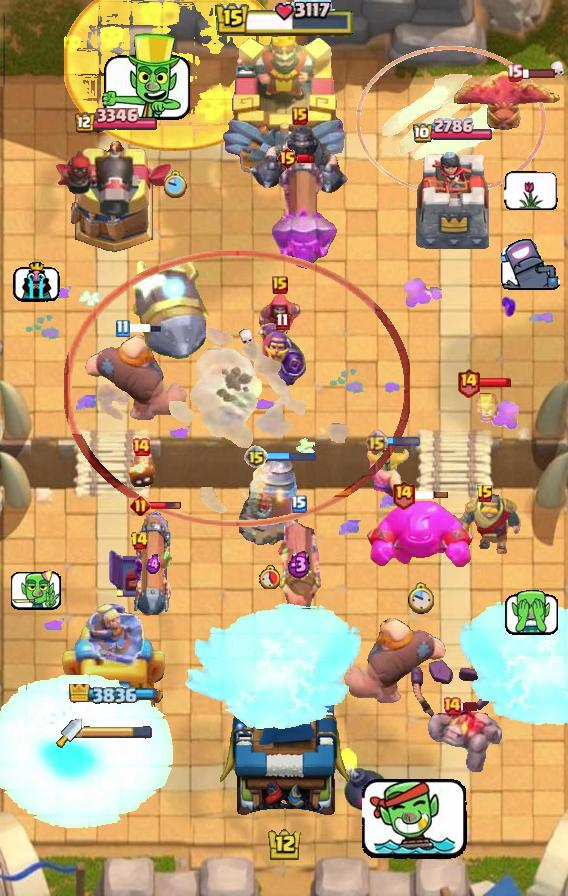baby-dragon: (337, 745, 391, 813)
balloon: (84, 332, 188, 424), (343, 615, 447, 707)
bar: (59, 595, 169, 731)
battle-healer: (275, 510, 323, 624), (129, 510, 177, 622)
bomber: (126, 451, 156, 489)
bowler: (256, 293, 304, 345)
clock: (214, 0, 354, 39)
clone: (364, 498, 476, 570)
electro-spirit: (287, 549, 311, 578), (147, 553, 162, 574)
elixir: (407, 582, 434, 615), (164, 170, 188, 198), (259, 565, 280, 589)
emote: (265, 450, 317, 463), (520, 67, 556, 79), (127, 322, 163, 334), (385, 437, 421, 448), (478, 376, 512, 387), (413, 490, 449, 500), (148, 501, 182, 511), (459, 700, 479, 711), (296, 152, 315, 163)
firecracker: (451, 494, 522, 554)
firecracker-evolution: (257, 321, 307, 386)
furnace: (270, 154, 338, 274)
goblin-giant: (367, 447, 411, 503)
ice-spirit-evolution: (473, 385, 501, 421)
ice-spirit-evolution-symbol: (107, 546, 171, 600)
ice-wizard: (356, 46, 546, 195)
king-tower: (220, 21, 348, 181), (219, 678, 349, 826)
king-tower-bar: (82, 726, 152, 740)
magic-archer: (239, 454, 299, 546)
mega-knight: (0, 672, 176, 833), (182, 600, 366, 736), (454, 596, 568, 732)
mother-witch: (454, 69, 568, 135)
phoenix-egg: (64, 0, 288, 152)
queen-tower: (410, 144, 496, 255)
royal-ghost: (64, 249, 410, 528)
royal-guardian: (248, 118, 352, 200)
selected: (71, 109, 156, 136), (412, 118, 494, 145), (68, 684, 160, 704)
skeleton: (362, 776, 470, 864), (97, 32, 195, 126), (502, 239, 563, 293), (502, 590, 560, 636), (9, 566, 62, 612), (504, 171, 558, 210), (12, 259, 59, 301)
text: (456, 366, 481, 397), (392, 478, 417, 509), (244, 445, 268, 469), (276, 146, 299, 170), (365, 431, 388, 454), (130, 495, 151, 517), (131, 437, 151, 457), (130, 531, 150, 551), (442, 696, 462, 716), (476, 484, 494, 504), (506, 63, 523, 81), (292, 107, 308, 125), (272, 276, 288, 294), (291, 495, 307, 513), (115, 318, 130, 337), (275, 313, 289, 331)
tower-bar: (53, 138, 175, 256)
valkyrie-evolution: (428, 710, 502, 772)
x-bow: (130, 257, 210, 361)
